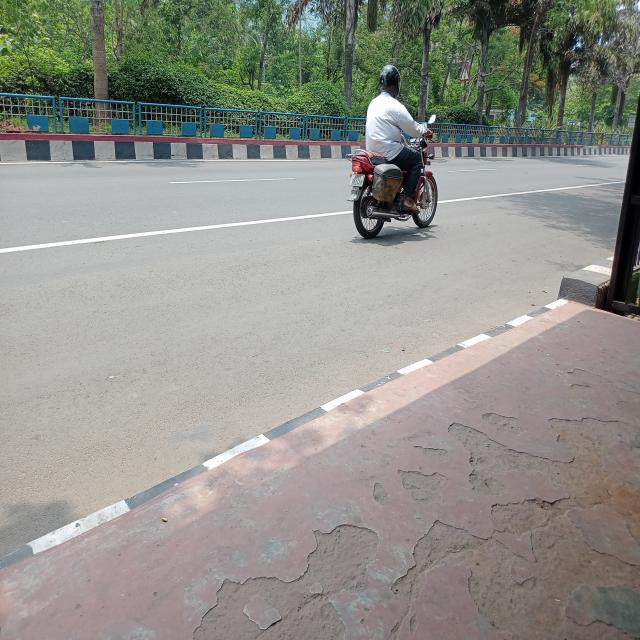bike: (342, 128, 461, 244)
